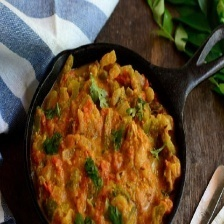sabzi: (25, 48, 180, 224)
